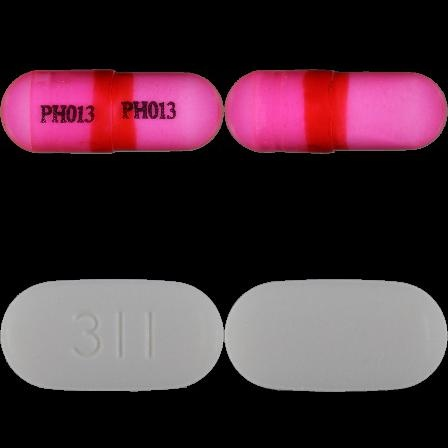66424-021: (0, 0, 224, 224)
